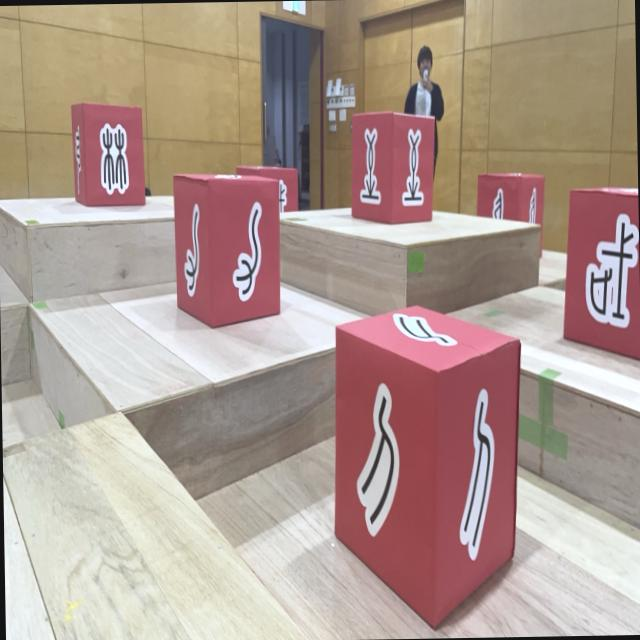10: (455, 386, 498, 562), (354, 381, 401, 537), (392, 309, 458, 348)
11: (491, 188, 504, 220), (528, 188, 536, 225)
13: (230, 199, 263, 303), (183, 202, 202, 298)
2: (98, 122, 130, 196)
4: (74, 124, 82, 196)
5: (582, 212, 640, 330)
7: (400, 127, 424, 208), (359, 127, 381, 206)
fighter: (330, 301, 526, 632), (172, 170, 282, 329), (559, 186, 640, 362), (349, 110, 437, 226), (70, 100, 146, 208), (476, 172, 546, 260), (235, 164, 298, 215)
